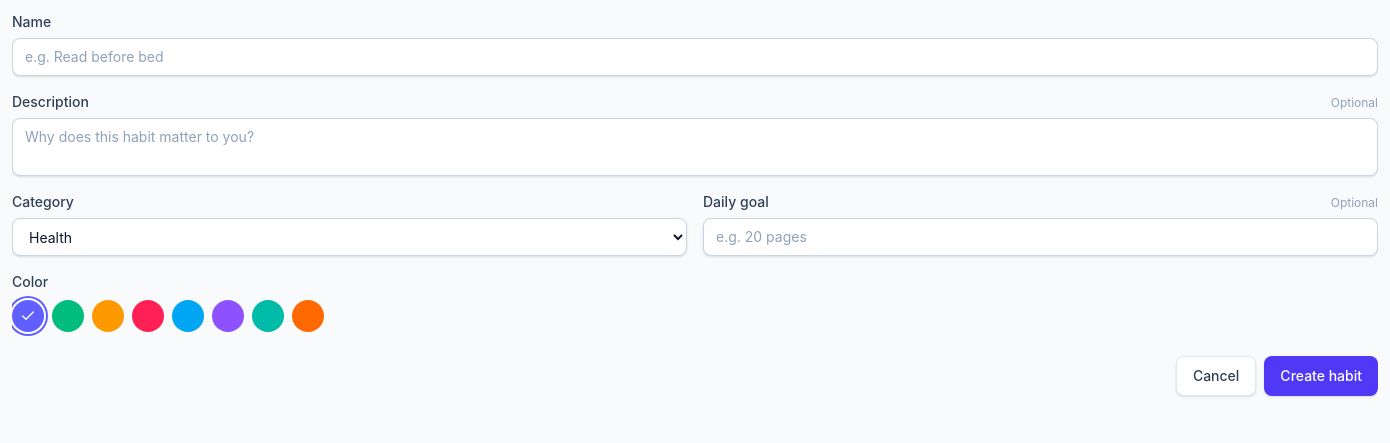
Test: HabitForm › shows a validation error instead of submitting an empty name
Click the button "Create habit": (1321, 376) [1264, 356, 1378, 396]
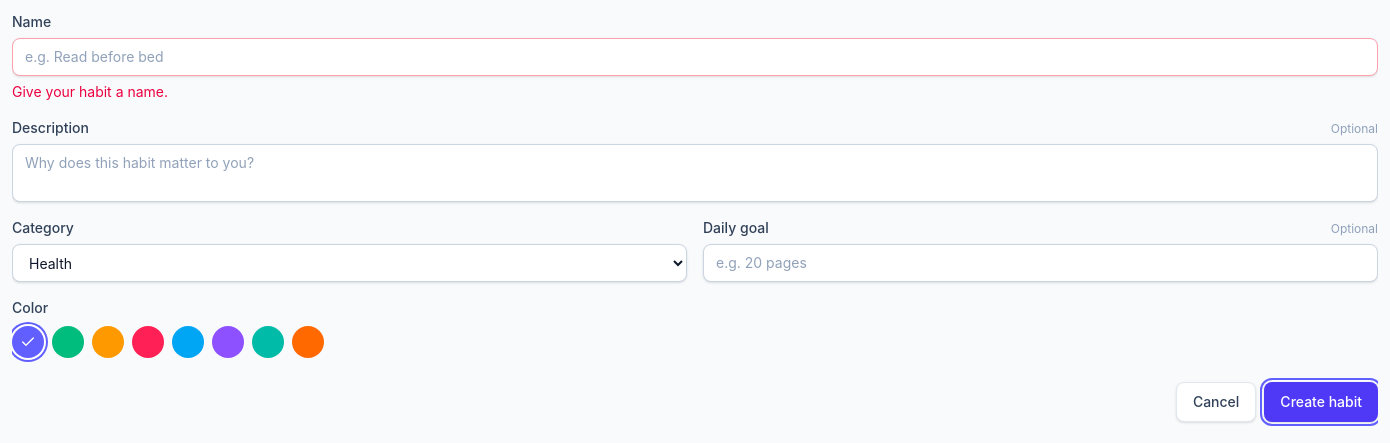
Result: the text "Give your habit a name." is shown at [12, 83, 168, 100]
